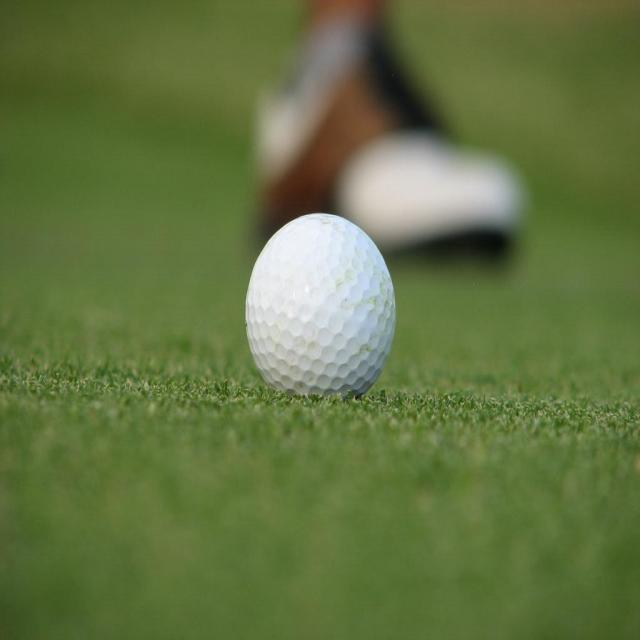GolfBall: (224, 202, 410, 421)
